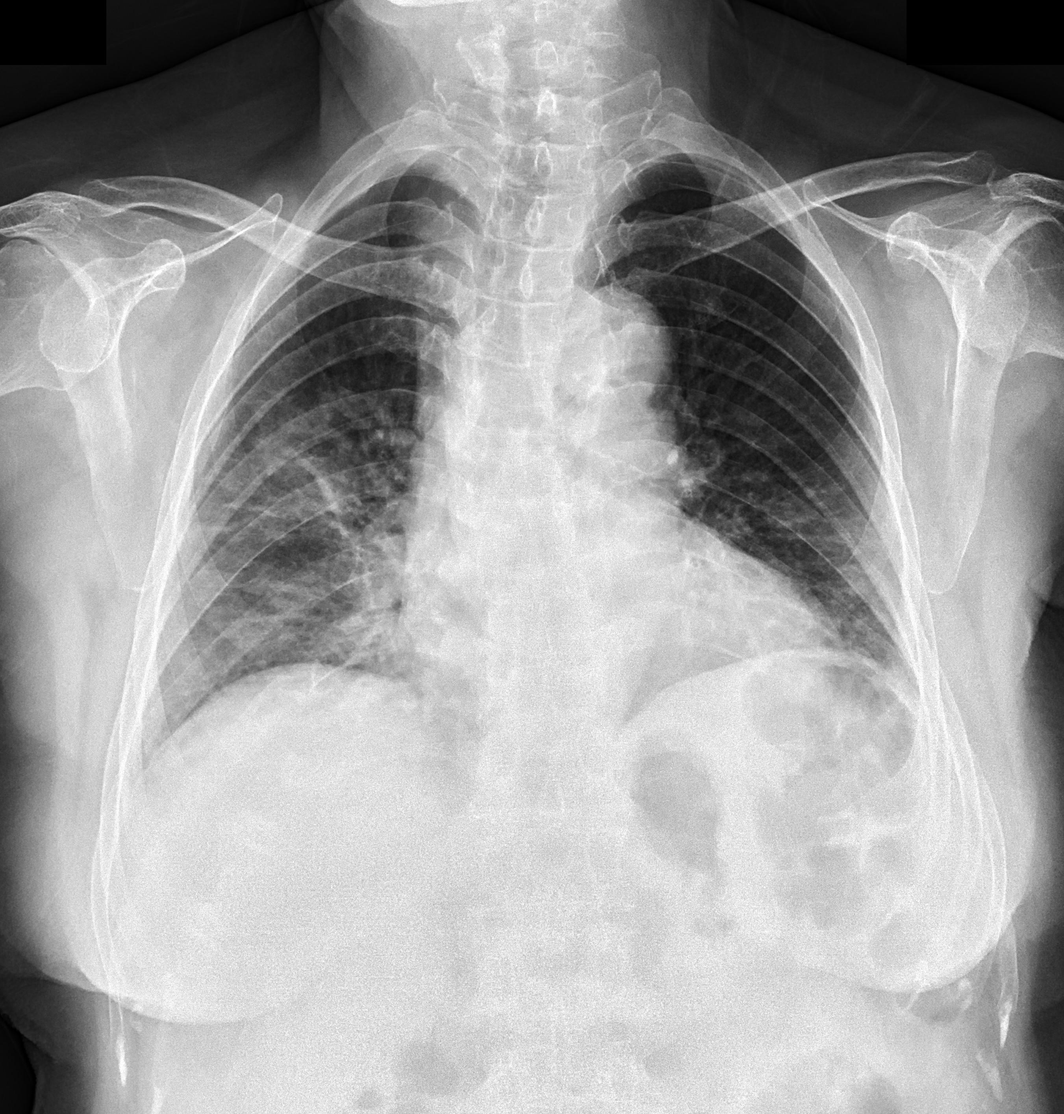Aortic enlargement: (562, 282, 686, 454)
Cardiomegaly: (394, 538, 832, 696)
